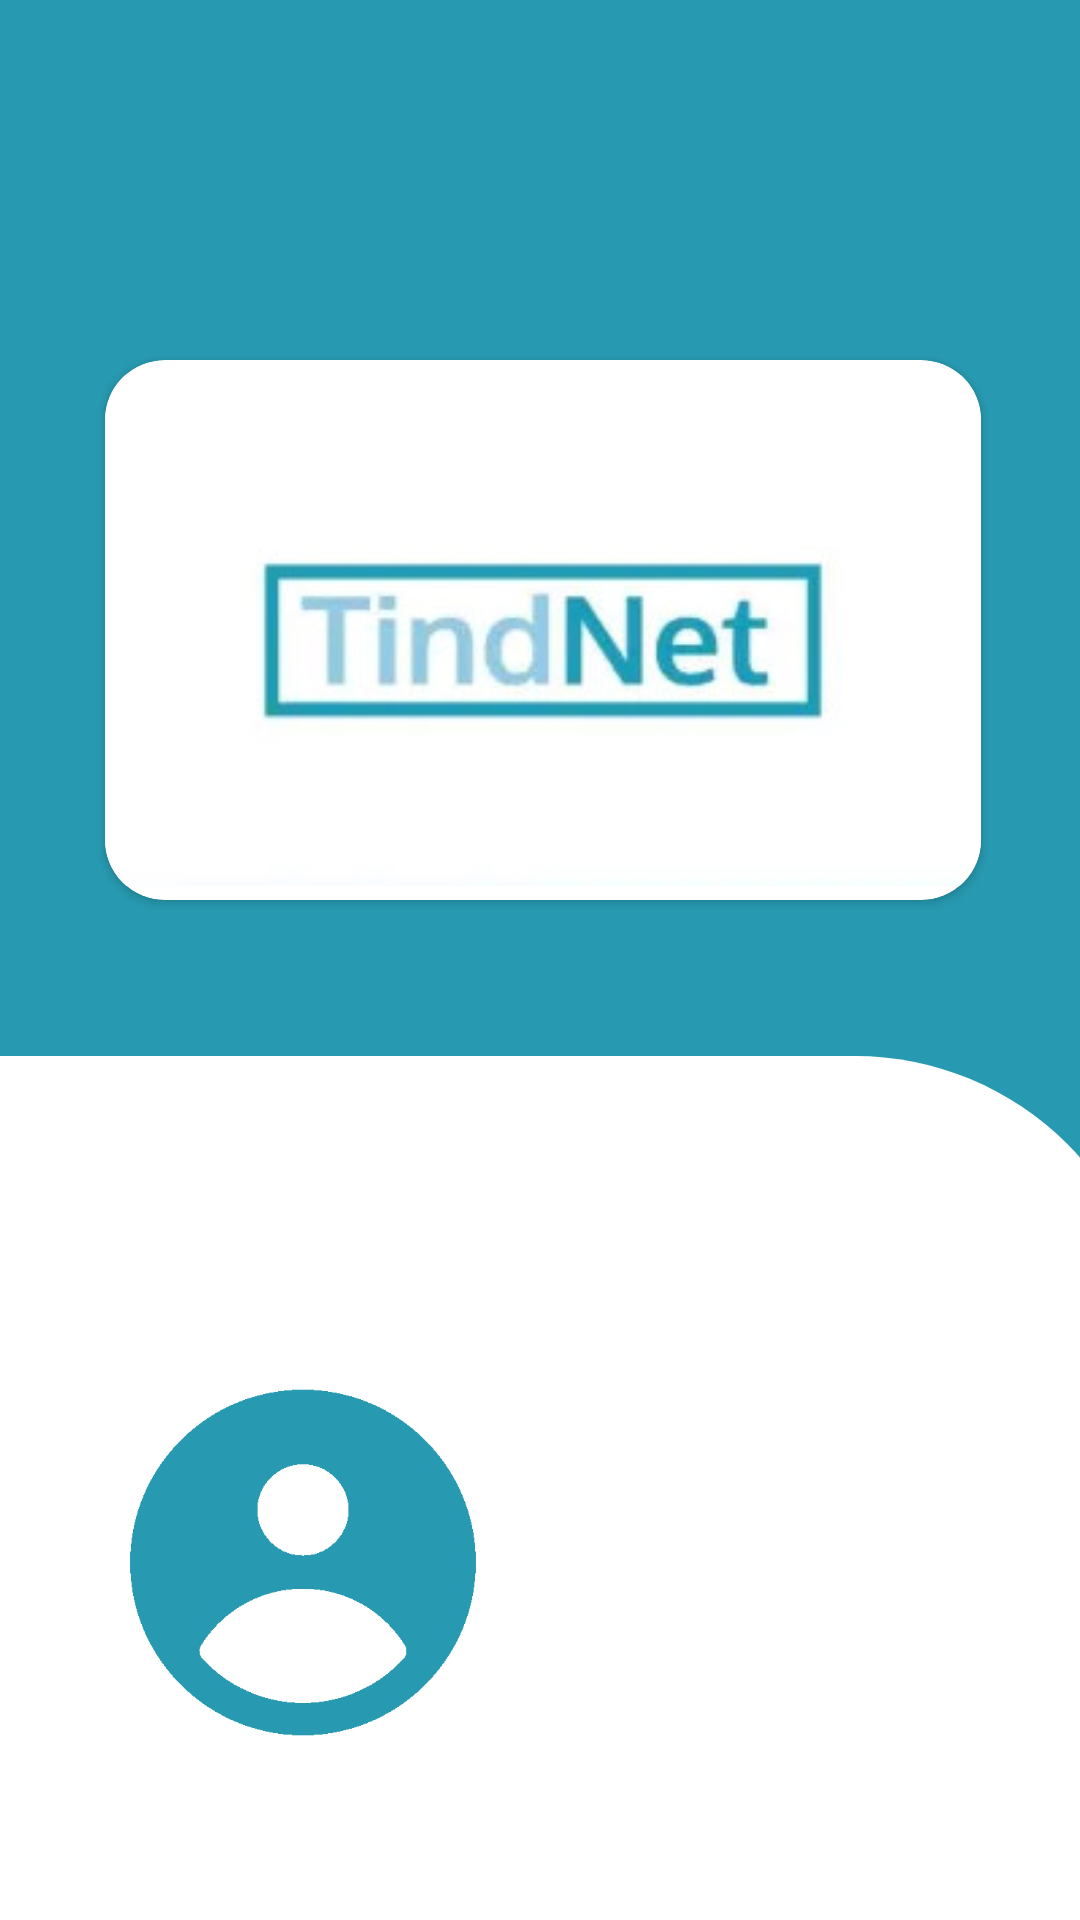

Named icons in this screenshot (1080×1920) and their centers, [x,y]:
perfil: [303,1562]
